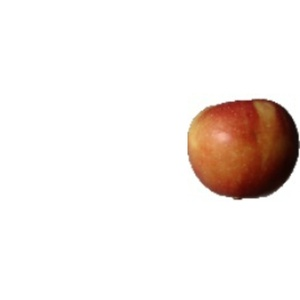maçã braeburn: (186, 95, 300, 200)
